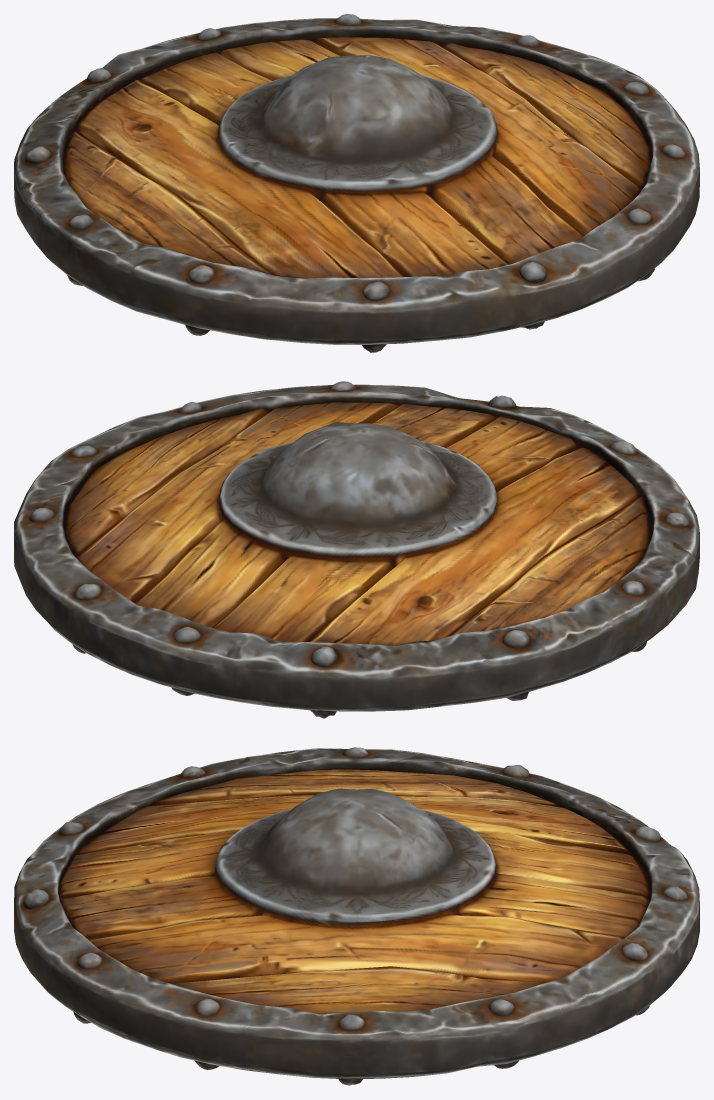
The model's file is Weapon_Shield_Copper.fbx.
The picture shows the model from 3 angles, top to bottom: view 1: azimuth 30°, elevation 25°; view 2: azimuth 150°, elevation 25°; view 3: azimuth 270°, elevation 25°; orthographic projection.
Parts seen in each view (by area): view 1: Weapon_Shield_Copper.001; view 2: Weapon_Shield_Copper.001; view 3: Weapon_Shield_Copper.001.
Boxes of the visible parts, x1,y1,x2,y2 form: Weapon_Shield_Copper.001: [14, 14, 699, 352]; Weapon_Shield_Copper.001: [14, 381, 699, 718]; Weapon_Shield_Copper.001: [14, 747, 699, 1085].
Bounding box in the file's own units: 0.36 × 0.0862 × 0.3598.
